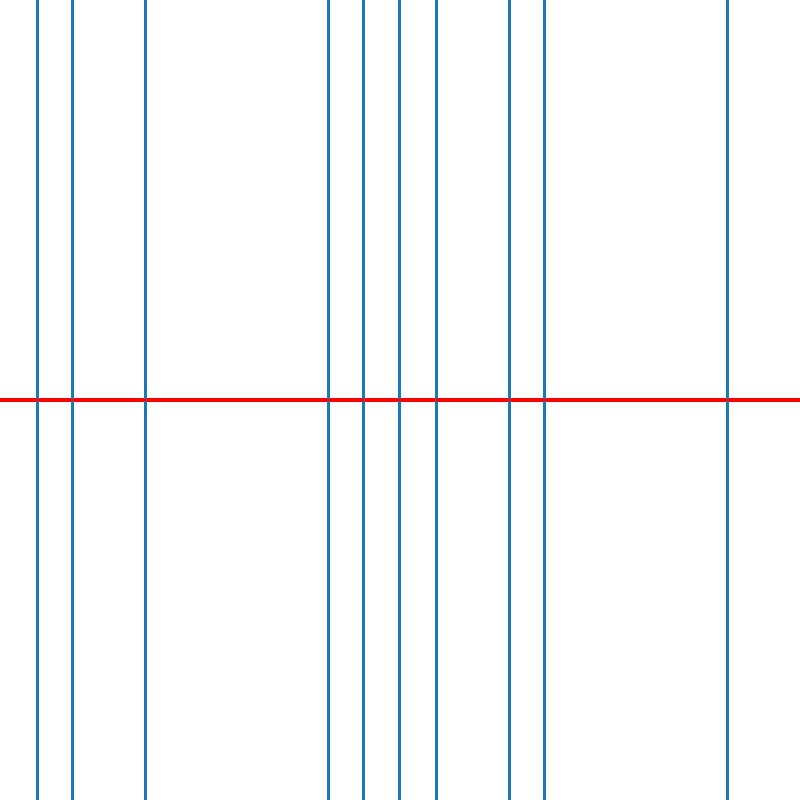root: (432, 396, 440, 404), (541, 396, 549, 404), (141, 396, 149, 404), (32, 396, 40, 404), (723, 396, 730, 404), (69, 396, 76, 404), (505, 396, 512, 404), (323, 396, 330, 404), (396, 396, 403, 404), (360, 396, 367, 404)
